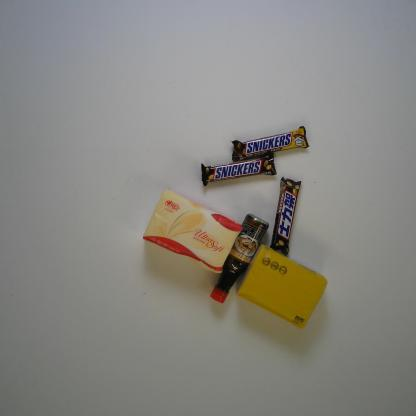Chocolate: (230, 124, 310, 162), (200, 152, 278, 187), (269, 176, 303, 256)
Seasoner: (208, 213, 270, 305)
Tissue: (142, 188, 244, 275), (235, 243, 328, 330)
